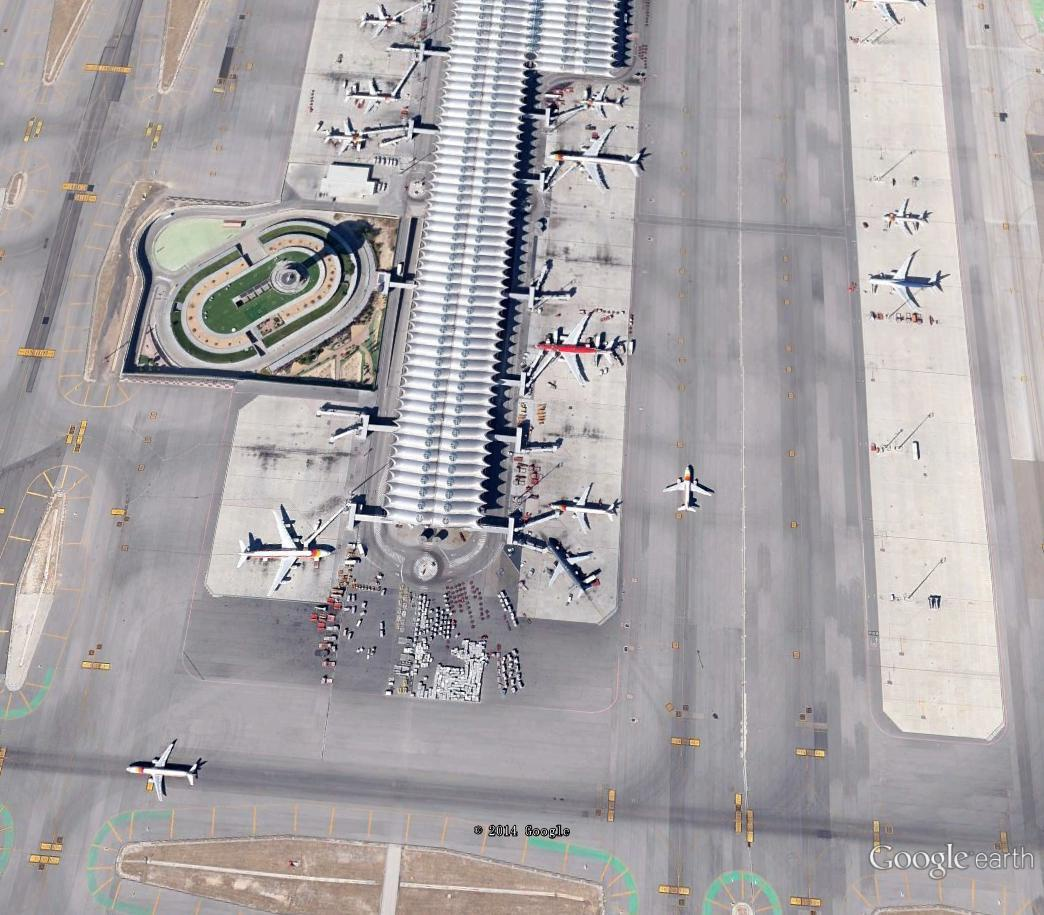aircraft: (232, 507, 339, 601), (526, 309, 628, 388), (543, 123, 649, 199), (121, 739, 207, 810), (864, 246, 951, 316), (537, 532, 607, 601), (546, 478, 622, 534), (657, 456, 718, 517), (339, 76, 402, 120), (879, 195, 933, 244), (568, 82, 630, 124), (319, 114, 376, 159), (355, 1, 411, 40)
